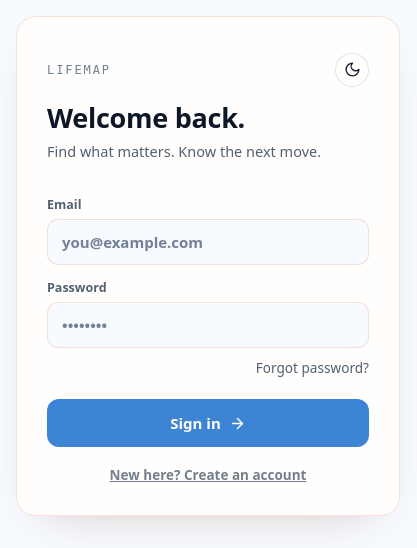
Scenario: AuthScreen › sends a password reset link from the forgot-password flow
Click the button "Forgot password?" at x=312, y=368, box [256,358,369,378]
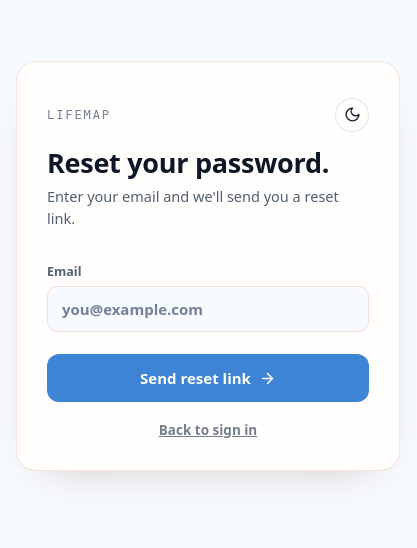
Type "alex@example.com" into the field labelled "Email" at x=208, y=309, box [47,286,369,332]
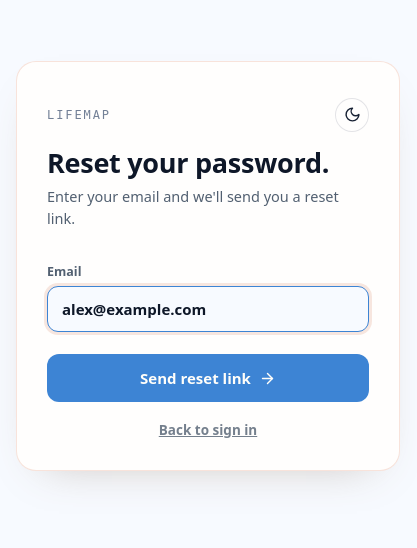
Click the button "Send reset link" at x=208, y=378, box [47,354,369,402]
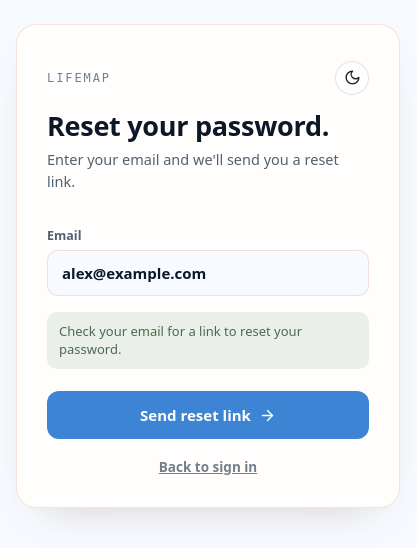
expect the text "Check your email for a link to reset your password." is shown: met, box [47,312,369,369]
